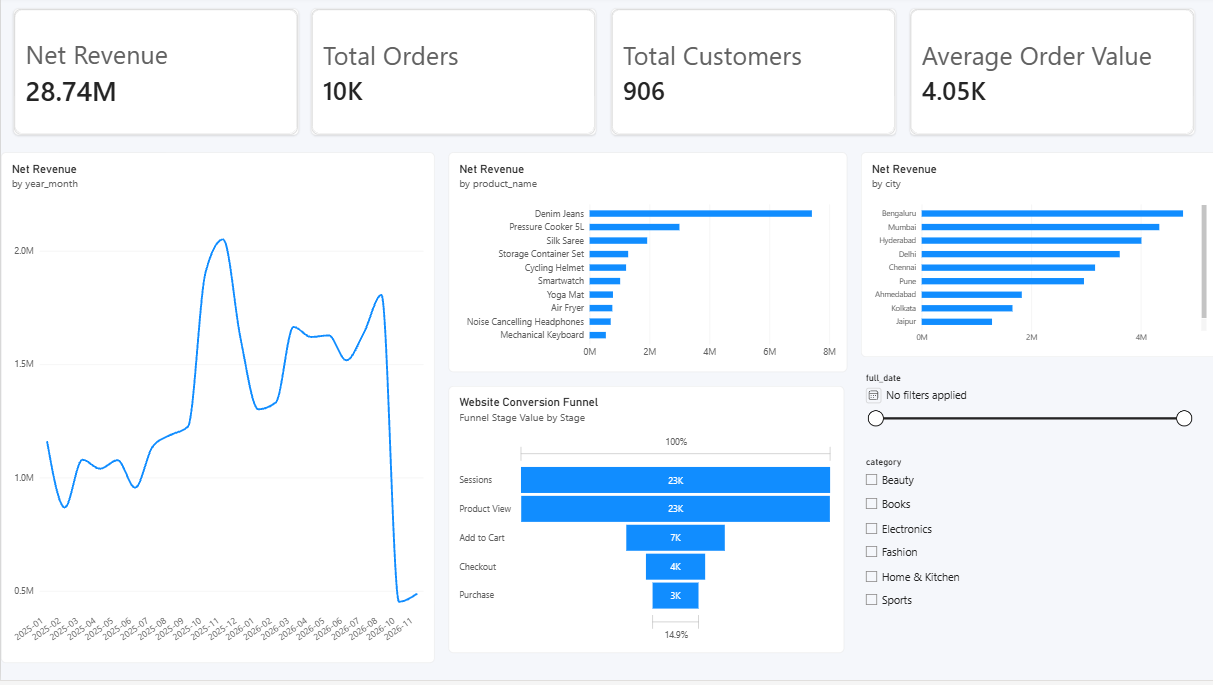

The dashboard page shown, as its layout file describes it:
{"tool":"powerbi","page":{"name":"Page 1","canvas":[1920,1080],"ordinal":0},"visuals":[{"type":"cardVisual","fields":{"Data":["fact_sales.Net Revenue"]},"box":[20,20,450,200],"z":0},{"type":"cardVisual","fields":{"Data":["fact_sales.Total Orders"]},"box":[490,19.1,450,200],"z":1000},{"type":"cardVisual","fields":{"Data":["fact_sales.Total Customers"]},"box":[963,19.1,450,200],"z":2000},{"type":"cardVisual","fields":{"Data":["fact_sales.Average Order Value"]},"box":[1435,19.1,450,200],"z":3000},{"type":"lineChart","fields":{"Category":["dim_date.year_month"],"Y":["fact_sales.Net Revenue"]},"box":[0,246.5,684.6,806.7],"z":4000},{"type":"clusteredBarChart","fields":{"Category":["dim_product.product_name"],"Y":["fact_sales.Net Revenue"]},"box":[706.1,246.5,629.5,347.1],"z":5000},{"type":"clusteredBarChart","fields":{"Category":["dim_customer.city"],"Y":["fact_sales.Net Revenue"]},"box":[1357.2,246.5,562.5,323.1],"z":6000},{"type":"funnel","title":"Website Conversion Funnel","fields":{"Category":["Funnel Stages.Stage"],"Y":["fact_web_sessions.Funnel Stage Value"]},"box":[706.1,615.2,624.8,421.3],"z":6001},{"type":"slicer","fields":{"Values":["dim_date.full_date"]},"box":[1357.2,593.6,526.6,131.7],"z":6002},{"type":"slicer","fields":{"Values":["dim_product.category"]},"box":[1357,726,527,311],"z":6003}]}

Visuals, with their boxes in screenshot pixels (x1, y1, x2, y2), scaled from the page's 1920x1080 canvas onto the 1213x685 screenshot:
cardVisual - fact_sales.Net Revenue: bbox(13, 13, 297, 140)
cardVisual - fact_sales.Total Orders: bbox(310, 12, 594, 139)
cardVisual - fact_sales.Total Customers: bbox(608, 12, 893, 139)
cardVisual - fact_sales.Average Order Value: bbox(907, 12, 1191, 139)
lineChart - dim_date.year_month x fact_sales.Net Revenue: bbox(0, 156, 433, 668)
clusteredBarChart - dim_product.product_name x fact_sales.Net Revenue: bbox(446, 156, 844, 376)
clusteredBarChart - dim_customer.city x fact_sales.Net Revenue: bbox(857, 156, 1212, 361)
"Website Conversion Funnel" funnel: bbox(446, 390, 841, 657)
slicer - dim_date.full_date: bbox(857, 376, 1190, 460)
slicer - dim_product.category: bbox(857, 460, 1190, 658)
